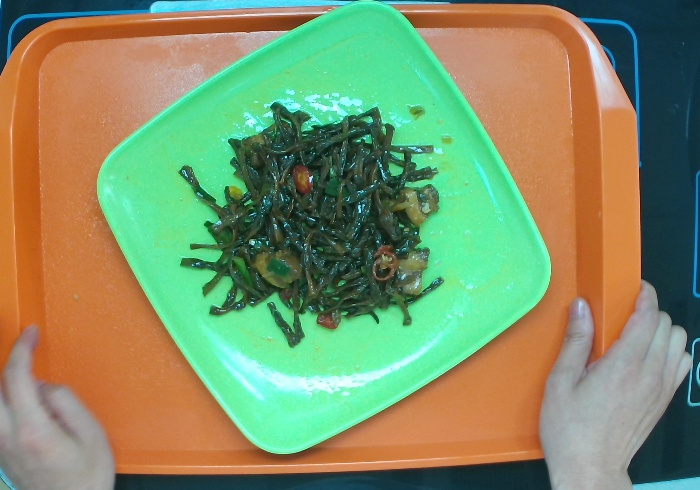ZNLD-Lv_Fang_Pan: (93, 1, 554, 455)
